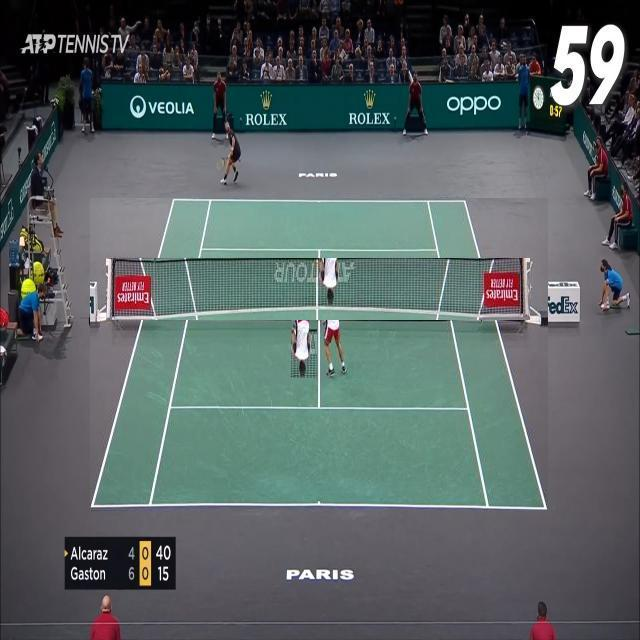court: (90, 198, 548, 510)
net: (107, 258, 530, 320)
player: (291, 272, 317, 378)
